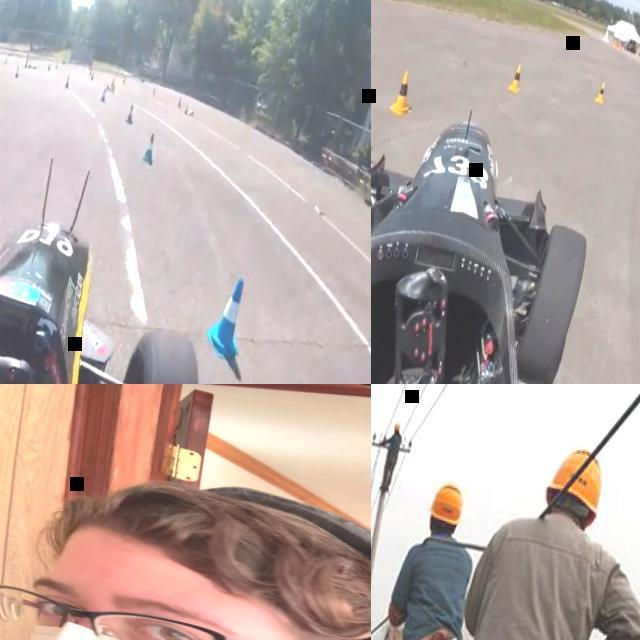Weapon: (506, 417, 640, 640), (389, 429, 499, 640)
objects: (529, 433, 627, 534), (431, 448, 481, 554)
